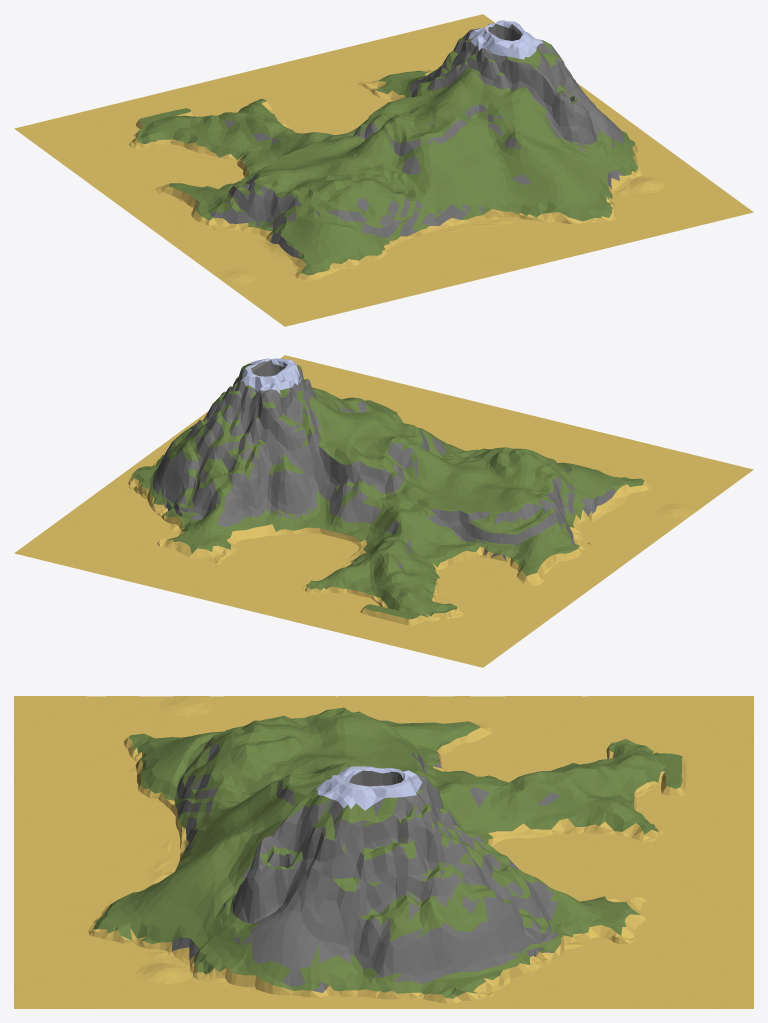
Rendered from Terrain_world2.fbx.
The picture shows the model from 3 angles, top to bottom: view 1: azimuth 30°, elevation 25°; view 2: azimuth 150°, elevation 25°; view 3: azimuth 270°, elevation 25°; orthographic projection. The views are drawn at different scales.
Parts seen in each view (by area): view 1: Terrain.040, Terrain.044, Terrain.037, Terrain.047, Terrain.043, Terrain.034, Terrain.029, Terrain.033, Terrain.024, Terrain.027, Terrain.039, Terrain.030 (+21 smaller); view 2: Terrain.032, Terrain.031, Terrain.035, Terrain.028, Terrain.030, Terrain.015, Terrain.027, Terrain.029, Terrain.026, Terrain.033, Terrain.039, Terrain.021 (+21 smaller); view 3: Terrain.038, Terrain.036, Terrain.047, Terrain.037, Terrain.019, Terrain.048, Terrain.043, Terrain.015, Terrain.027, Terrain.040, Terrain.026, Terrain.021 (+23 smaller).
Part boxes in pixels (x1=…): Terrain.040: x1=272, y1=176, x2=412, y2=283; Terrain.044: x1=437, y1=123, x2=571, y2=236; Terrain.037: x1=456, y1=20, x2=581, y2=126; Terrain.047: x1=514, y1=92, x2=647, y2=207; Terrain.043: x1=365, y1=154, x2=495, y2=258; Terrain.034: x1=390, y1=56, x2=513, y2=158; Terrain.029: x1=145, y1=180, x2=281, y2=262; Terrain.033: x1=318, y1=109, x2=441, y2=188; Terrain.024: x1=137, y1=112, x2=267, y2=170; Terrain.027: x1=99, y1=168, x2=228, y2=227; Terrain.039: x1=198, y1=235, x2=322, y2=302; Terrain.030: x1=237, y1=156, x2=359, y2=231; Terrain.032: x1=244, y1=410, x2=365, y2=543; Terrain.031: x1=305, y1=456, x2=450, y2=554; Terrain.035: x1=171, y1=387, x2=286, y2=509; Terrain.028: x1=406, y1=498, x2=542, y2=585; Terrain.030: x1=451, y1=451, x2=582, y2=526; Terrain.015: x1=125, y1=478, x2=243, y2=557; Terrain.027: x1=478, y1=526, x2=613, y2=605; Terrain.029: x1=530, y1=496, x2=666, y2=571; Terrain.026: x1=320, y1=587, x2=451, y2=649; Terrain.033: x1=369, y1=423, x2=495, y2=497; Terrain.039: x1=591, y1=477, x2=719, y2=532; Terrain.021: x1=238, y1=578, x2=365, y2=627; Terrain.038: x1=245, y1=804, x2=419, y2=1008; Terrain.036: x1=383, y1=844, x2=530, y2=1008; Terrain.047: x1=114, y1=830, x2=271, y2=967; Terrain.037: x1=259, y1=766, x2=428, y2=913; Terrain.019: x1=516, y1=771, x2=644, y2=864; Terrain.048: x1=119, y1=878, x2=266, y2=1008; Terrain.043: x1=116, y1=751, x2=263, y2=863; Terrain.015: x1=516, y1=867, x2=648, y2=965; Terrain.027: x1=375, y1=696, x2=528, y2=757; Terrain.040: x1=99, y1=720, x2=266, y2=806; Terrain.026: x1=618, y1=741, x2=753, y2=806; Terrain.021: x1=634, y1=799, x2=753, y2=860.
Bounding box in the file's own units: 233600 × 53902 × 233599.
